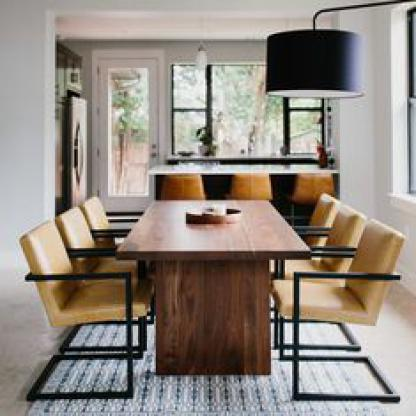table: (108, 194, 315, 380)
